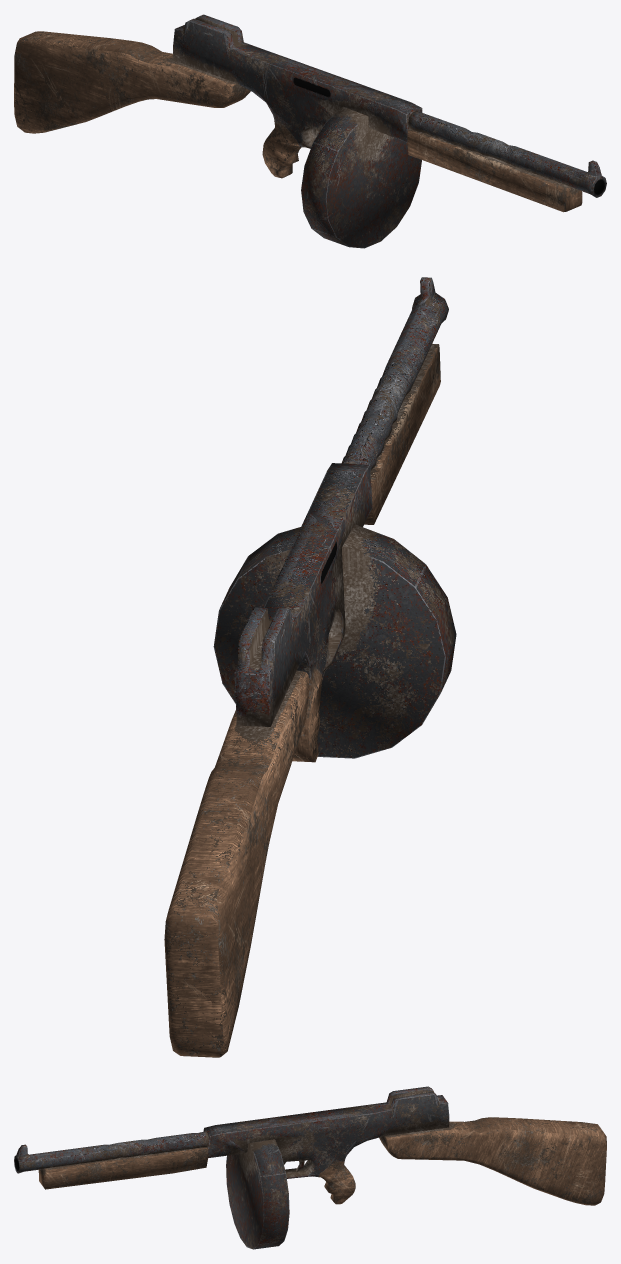
Rendered from Anim_disparar_ametralladora_objetos.0024.obj.
3 views of the same model, one above another, from view 1: azimuth 30°, elevation 25°; view 2: azimuth 150°, elevation 25°; view 3: azimuth 270°, elevation 25° (orthographic). The views are drawn at different scales.
Parts seen in each view (by area): view 1: Ametralladora1; view 2: Ametralladora1; view 3: Ametralladora1.
Part boxes in pixels (x1,y1,x2,y2): Ametralladora1: (14,14,606,248); Ametralladora1: (164,277,456,1057); Ametralladora1: (14,1086,606,1249).
Size of the model in its own units: 2.17 by 1.49 by 5.74.
